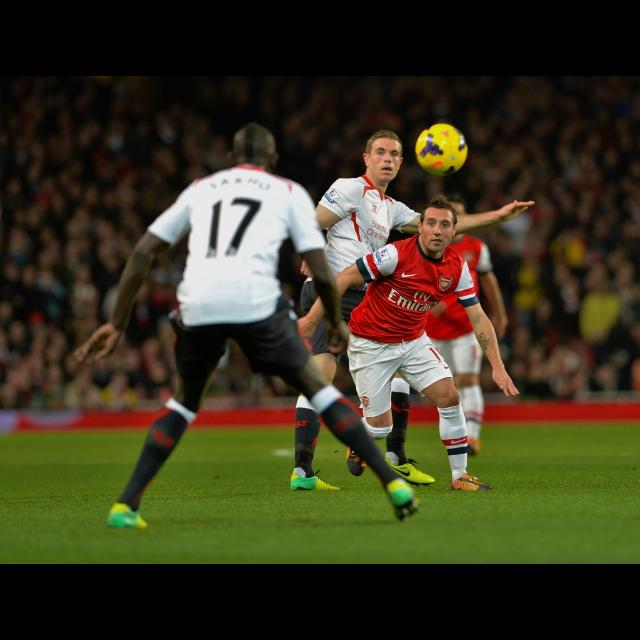Football: (416, 122, 466, 174)
